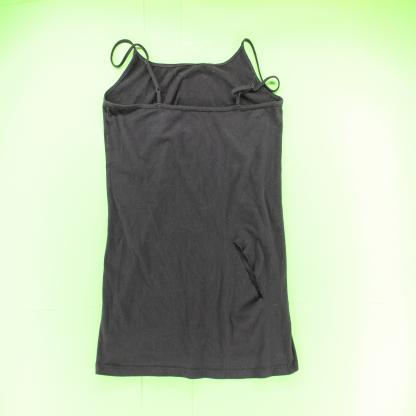hole: (231, 238, 266, 303)
